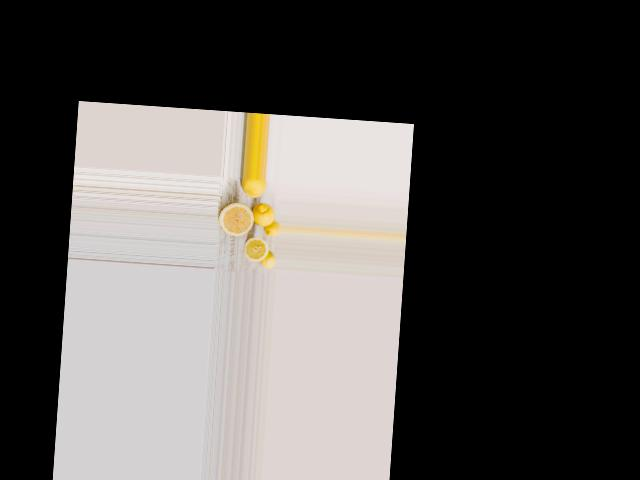lemon: (238, 177, 267, 200)
